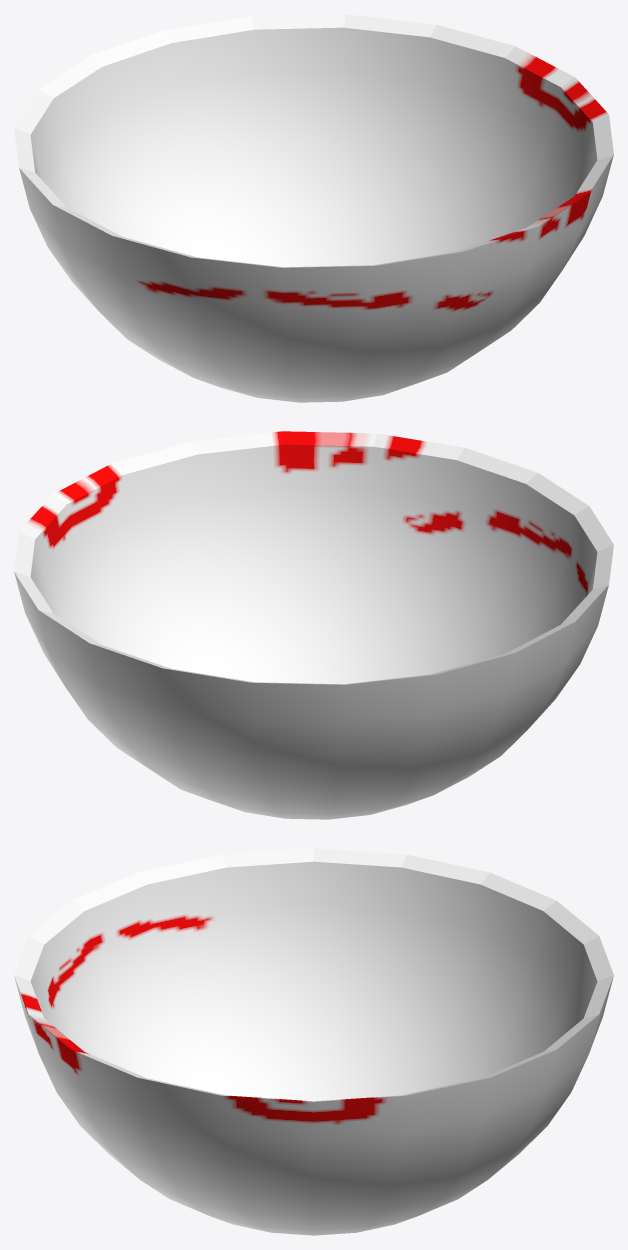
Rendered from bowl 2.fbx.
3 renders of one model, top to bottom at view 1: azimuth 30°, elevation 25°; view 2: azimuth 150°, elevation 25°; view 3: azimuth 270°, elevation 25°, orthographic.
Visible parts, largest first — view 1: pSphere1; view 2: pSphere1; view 3: pSphere1.
Boxes of the visible parts, left/top/right/bottom form: pSphere1: left=14, top=14, right=613, bottom=402; pSphere1: left=14, top=431, right=613, bottom=819; pSphere1: left=14, top=848, right=613, bottom=1235.
Size of the model in its own units: 2.09 by 0.8927 by 2.09.
